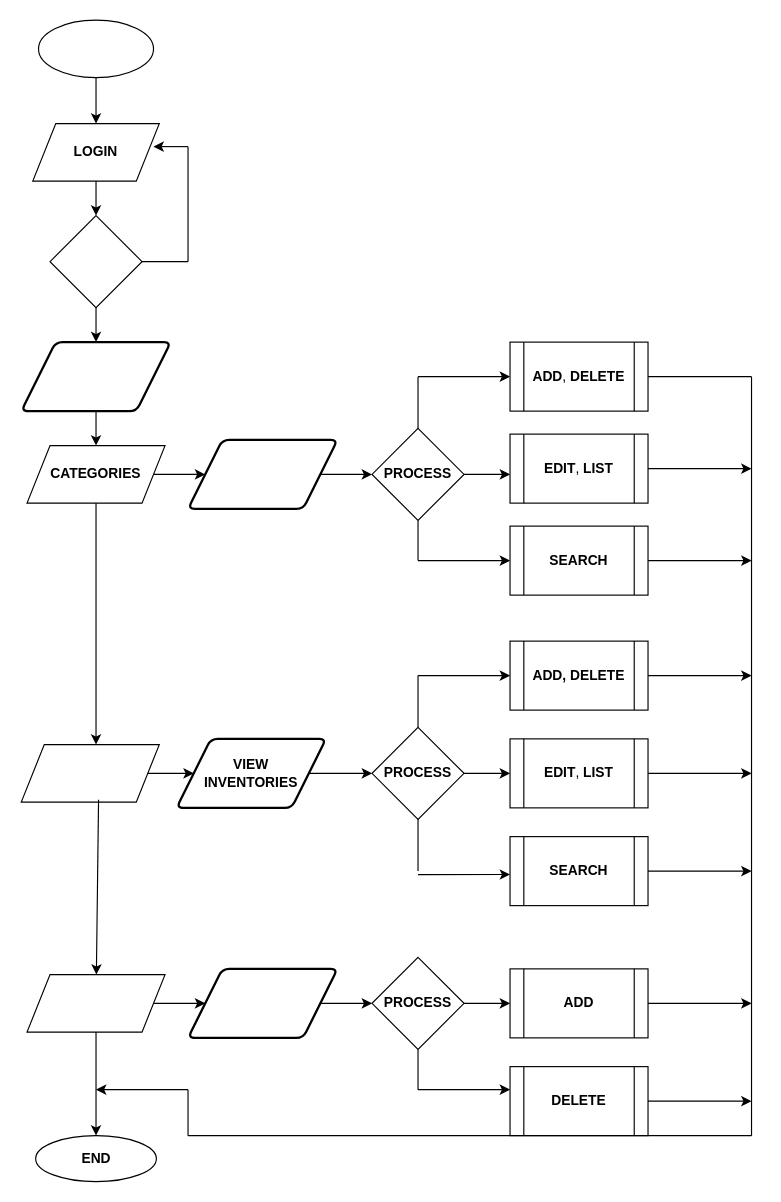
The diagram is 781 pixels wide and 1202 high, and some of its shapes have lost their labels. Each missing label, with the box of its shape:
AUTH: (49, 214, 142, 308)
DASHBOARD: (20, 340, 171, 412)
INVENTORIES: (20, 743, 159, 802)
LOCATION: (26, 973, 165, 1032)
START: (37, 19, 154, 78)
VIEW CATEGORIES: (186, 438, 338, 509)
VIEW LOCATIONS: (186, 967, 338, 1038)
